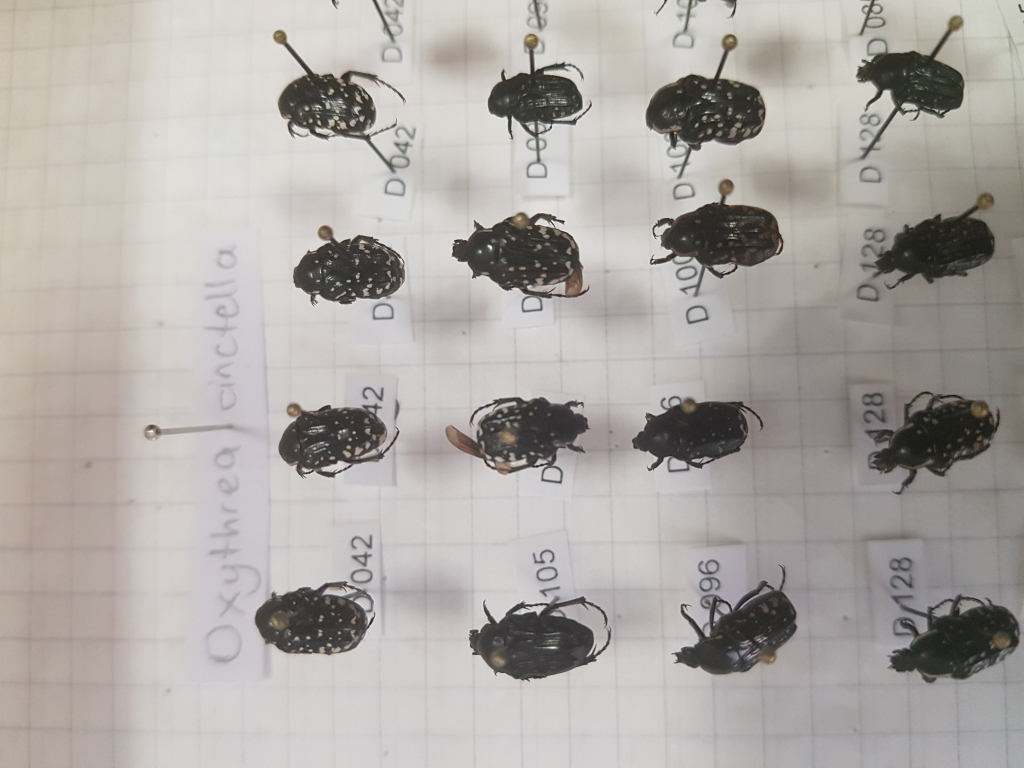Oxythyrea_cinctella: (667, 556, 806, 681), (442, 200, 585, 313), (870, 583, 1023, 687), (466, 584, 622, 679), (449, 387, 595, 480), (646, 200, 785, 290), (864, 385, 1007, 472), (626, 394, 772, 478), (865, 197, 998, 289), (629, 73, 767, 158), (265, 400, 402, 479), (248, 575, 374, 659), (276, 68, 394, 157), (842, 42, 972, 121), (289, 231, 412, 314), (483, 63, 595, 143)
